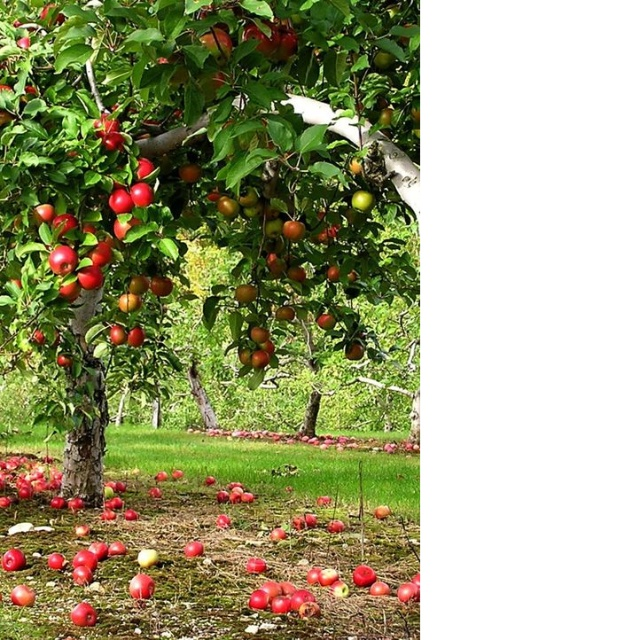sau_rieng: (124, 177, 155, 213), (275, 210, 308, 243), (105, 185, 135, 219), (68, 598, 97, 632), (343, 187, 375, 216), (244, 583, 273, 615), (129, 569, 156, 603), (348, 561, 375, 587)
